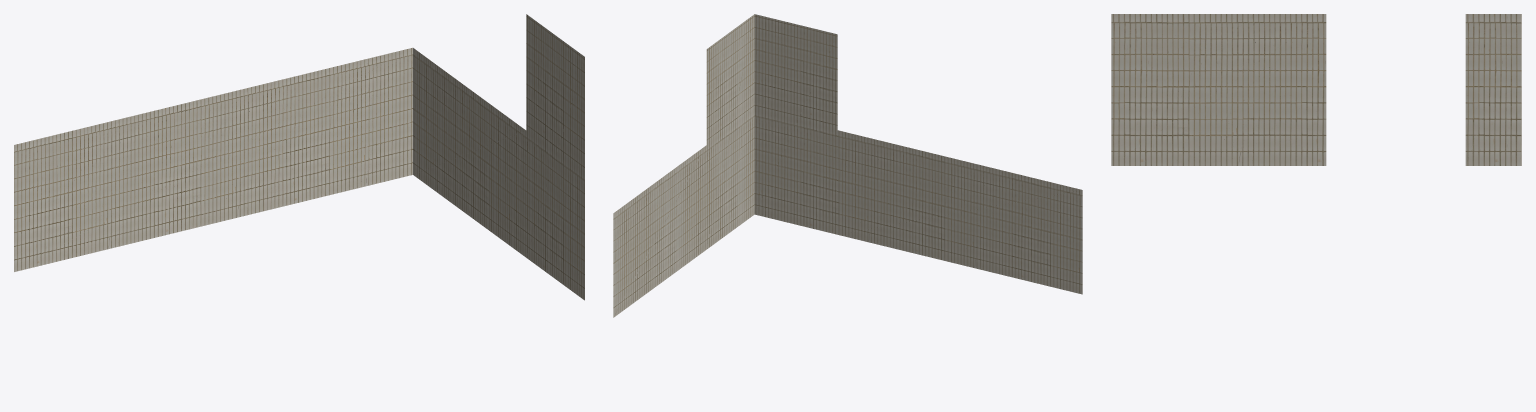
Rendered from bath-tiles.glb.
3 views of the same model, side by side, from view 1: azimuth 30°, elevation 25°; view 2: azimuth 150°, elevation 25°; view 3: azimuth 270°, elevation 25° (orthographic). The views are drawn at different scales.
Parts seen in each view (by area): view 1: bath-tiles; view 2: bath-tiles; view 3: bath-tiles.
Boxes of the visible parts, left/top/right/bottom form: bath-tiles: left=14, top=14, right=584, bottom=300; bath-tiles: left=613, top=14, right=1082, bottom=317; bath-tiles: left=1111, top=14, right=1521, bottom=165.
Size of the model in its own units: 3.94 by 2.3 by 2.94.
1 material, 1 textured.
